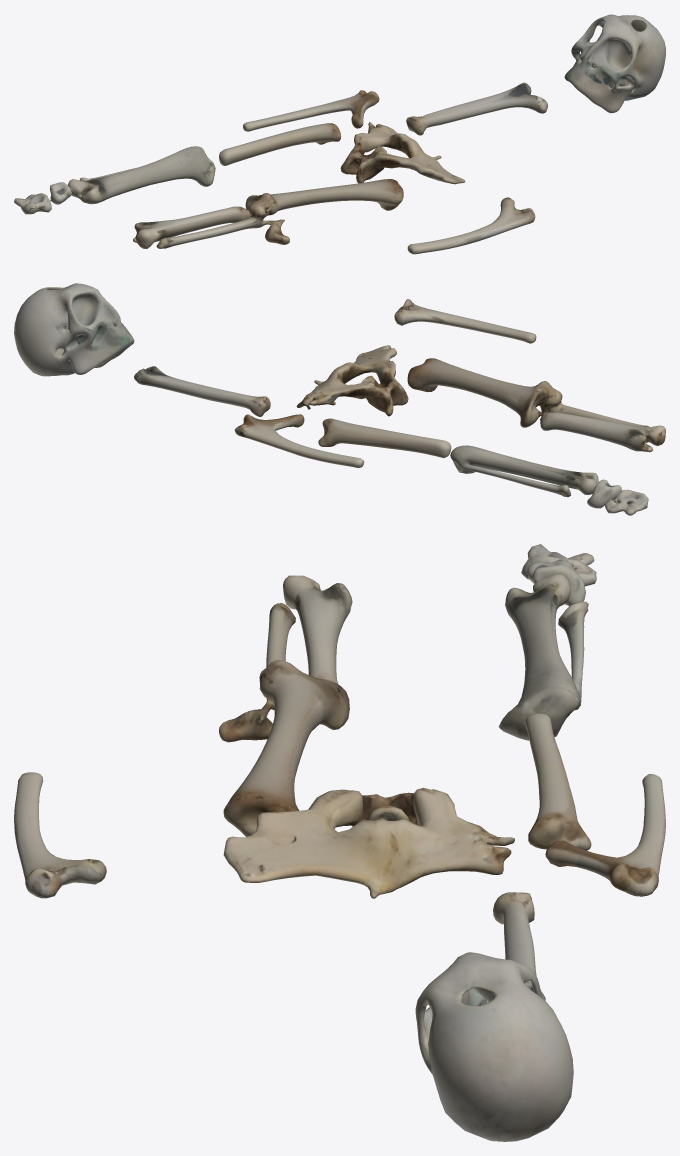
File: homo-floresiensis.glb
3 views of the same model, one above another, from view 1: azimuth 30°, elevation 25°; view 2: azimuth 150°, elevation 25°; view 3: azimuth 270°, elevation 25° (orthographic). The views are drawn at different scales.
Visible parts, largest first — view 1: tripo_node_267a4b2f-0541-45e3-9677-d5c9eddfdddd; view 2: tripo_node_267a4b2f-0541-45e3-9677-d5c9eddfdddd; view 3: tripo_node_267a4b2f-0541-45e3-9677-d5c9eddfdddd.
Boxes of the visible parts, x1=… form: tripo_node_267a4b2f-0541-45e3-9677-d5c9eddfdddd: x1=14, y1=14, x2=665, y2=254; tripo_node_267a4b2f-0541-45e3-9677-d5c9eddfdddd: x1=14, y1=283, x2=665, y2=515; tripo_node_267a4b2f-0541-45e3-9677-d5c9eddfdddd: x1=14, y1=544, x2=665, y2=1141.
Bounding box in the file's own units: 0.9993 × 0.1284 × 0.4845.
1 material, 1 textured.
